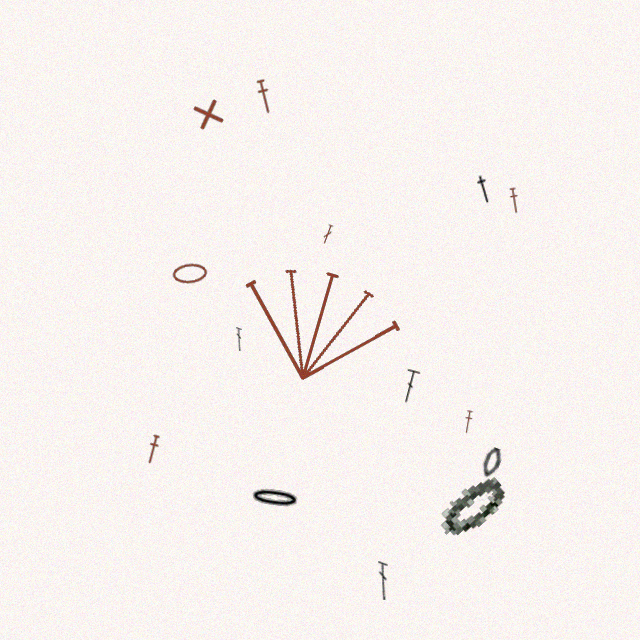chain: (431, 467, 512, 546), (248, 485, 302, 512), (479, 446, 504, 480), (172, 262, 208, 285)
double: (399, 368, 421, 405), (378, 561, 388, 600), (321, 224, 334, 245), (236, 327, 242, 351)
fan: (220, 235, 419, 405)
half_double: (254, 78, 275, 115), (473, 173, 495, 205), (144, 434, 162, 465), (508, 187, 521, 214), (462, 410, 474, 434)
single: (187, 93, 229, 135)
